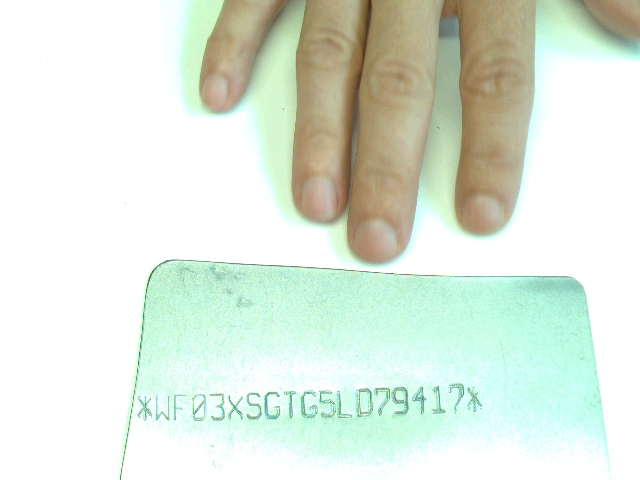0: (190, 391, 208, 423)
1: (430, 384, 446, 416)
3: (208, 392, 227, 421)
4: (411, 385, 428, 417)
5: (318, 388, 337, 419)
7: (447, 382, 466, 415), (373, 385, 391, 419)
9: (392, 385, 411, 419)
d: (354, 387, 373, 419)
f: (172, 392, 188, 421)
g: (300, 388, 320, 421), (263, 390, 283, 420)
l: (336, 389, 352, 420)
s: (245, 391, 263, 421)
t: (282, 389, 300, 419)
w: (153, 393, 172, 423)
x: (227, 392, 245, 421)
